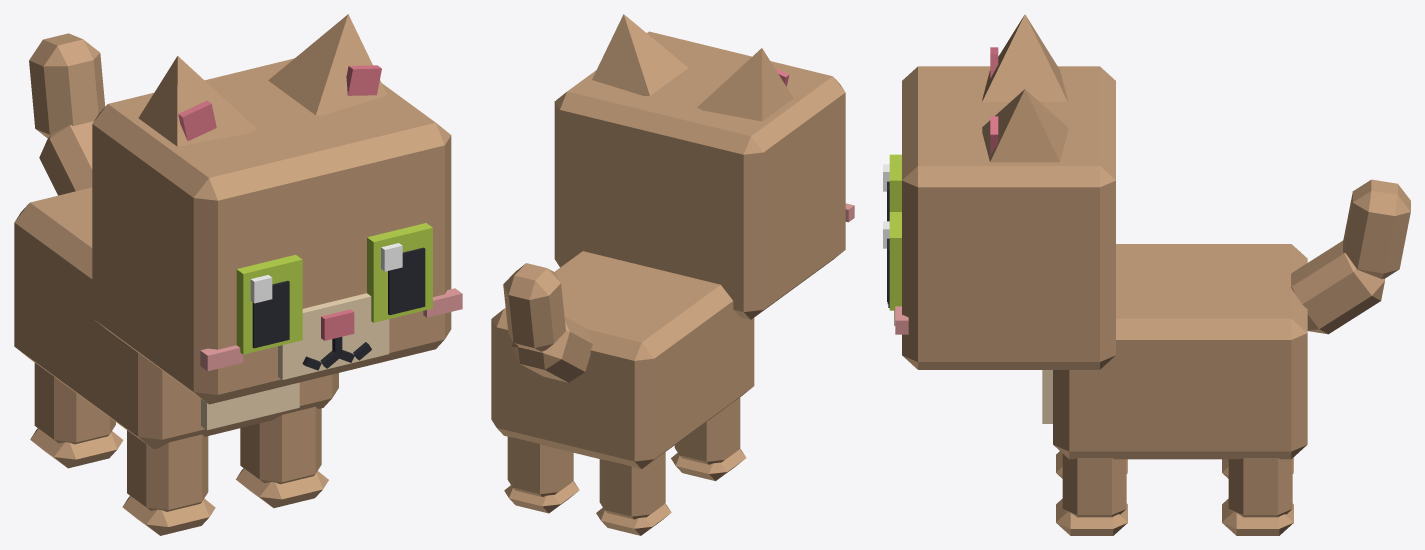
The model's file is CatCafe_Cat_Cream.glb.
3 views of the same model, side by side, from view 1: azimuth 30°, elevation 25°; view 2: azimuth 150°, elevation 25°; view 3: azimuth 270°, elevation 25° (orthographic). The views are drawn at different scales.
Visible parts, largest first — view 1: CatCafe_Cat_Cream_Head, CatCafe_Cat_Cream_Body, CatCafe_Cat_Cream_Tail, CatCafe_Cat_Cream_LegF2, CatCafe_Cat_Cream_LegF1, CatCafe_Cat_Cream_EarL, CatCafe_Cat_Cream_Eye2, CatCafe_Cat_Cream_LegB2, CatCafe_Cat_Cream_Eye1, CatCafe_Cat_Cream_EarR; view 2: CatCafe_Cat_Cream_Head, CatCafe_Cat_Cream_Body, CatCafe_Cat_Cream_Tail, CatCafe_Cat_Cream_LegB2, CatCafe_Cat_Cream_EarL, CatCafe_Cat_Cream_LegB1, CatCafe_Cat_Cream_EarR, CatCafe_Cat_Cream_LegF2; view 3: CatCafe_Cat_Cream_Head, CatCafe_Cat_Cream_Body, CatCafe_Cat_Cream_Tail, CatCafe_Cat_Cream_LegF1, CatCafe_Cat_Cream_LegB1, CatCafe_Cat_Cream_EarL, CatCafe_Cat_Cream_EarR, CatCafe_Cat_Cream_Eye1, CatCafe_Cat_Cream_Eye2.
Boxes of the visible parts, bbox=[...] form: CatCafe_Cat_Cream_Head: bbox=[92, 58, 462, 404]; CatCafe_Cat_Cream_Body: bbox=[14, 187, 338, 449]; CatCafe_Cat_Cream_Tail: bbox=[29, 33, 105, 195]; CatCafe_Cat_Cream_LegF2: bbox=[122, 430, 215, 535]; CatCafe_Cat_Cream_LegF1: bbox=[236, 406, 328, 507]; CatCafe_Cat_Cream_EarL: bbox=[268, 14, 387, 115]; CatCafe_Cat_Cream_Eye2: bbox=[236, 254, 302, 354]; CatCafe_Cat_Cream_LegB2: bbox=[30, 362, 123, 468]; CatCafe_Cat_Cream_Eye1: bbox=[367, 223, 432, 322]; CatCafe_Cat_Cream_EarR: bbox=[138, 56, 257, 146]; CatCafe_Cat_Cream_Head: bbox=[554, 31, 854, 319]; CatCafe_Cat_Cream_Body: bbox=[491, 251, 754, 469]; CatCafe_Cat_Cream_Tail: bbox=[503, 263, 592, 382]; CatCafe_Cat_Cream_LegB2: bbox=[596, 452, 671, 535]; CatCafe_Cat_Cream_EarL: bbox=[592, 14, 688, 95]; CatCafe_Cat_Cream_LegB1: bbox=[504, 437, 579, 513]; CatCafe_Cat_Cream_EarR: bbox=[697, 48, 793, 121]; CatCafe_Cat_Cream_LegF2: bbox=[671, 397, 746, 481]; CatCafe_Cat_Cream_Head: bbox=[887, 66, 1115, 369]; CatCafe_Cat_Cream_Body: bbox=[1042, 244, 1307, 459]; CatCafe_Cat_Cream_Tail: bbox=[1291, 179, 1410, 334]; CatCafe_Cat_Cream_LegF1: bbox=[1056, 454, 1127, 535]; CatCafe_Cat_Cream_LegB1: bbox=[1222, 458, 1293, 535]; CatCafe_Cat_Cream_EarL: bbox=[982, 89, 1067, 162]; CatCafe_Cat_Cream_EarR: bbox=[982, 14, 1067, 101]; CatCafe_Cat_Cream_Eye1: bbox=[883, 212, 901, 310]; CatCafe_Cat_Cream_Eye2: bbox=[883, 154, 901, 221].
Bounding box in the file's own units: 1 × 1.86 × 1.97.
Materials: 1 (1 with a texture image).
